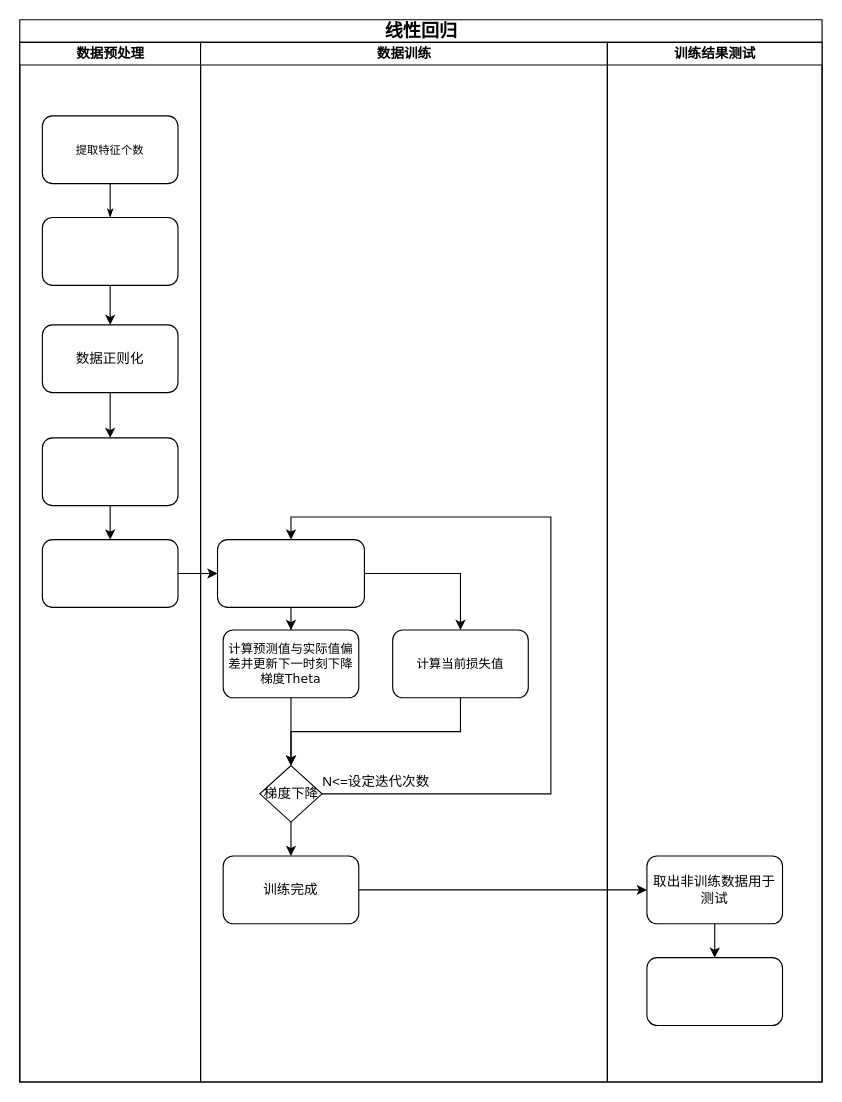
The diagram is 842 pixels wide and 1102 high, and some of its shapes have lost their labels. Here are the shapes that lost their labels. From the top down, the centre of each, then its label:
At (x=109, y=250): "初始化参数".
At (x=109, y=471): "特征变换 - Sinusoidal/polynominal".
At (x=109, y=572): "输出处理数据".
At (x=290, y=572): "计算当前预测值： Theta * ProcessedData".
At (x=714, y=991): "带入训练结果方程进行拟合度测试".
